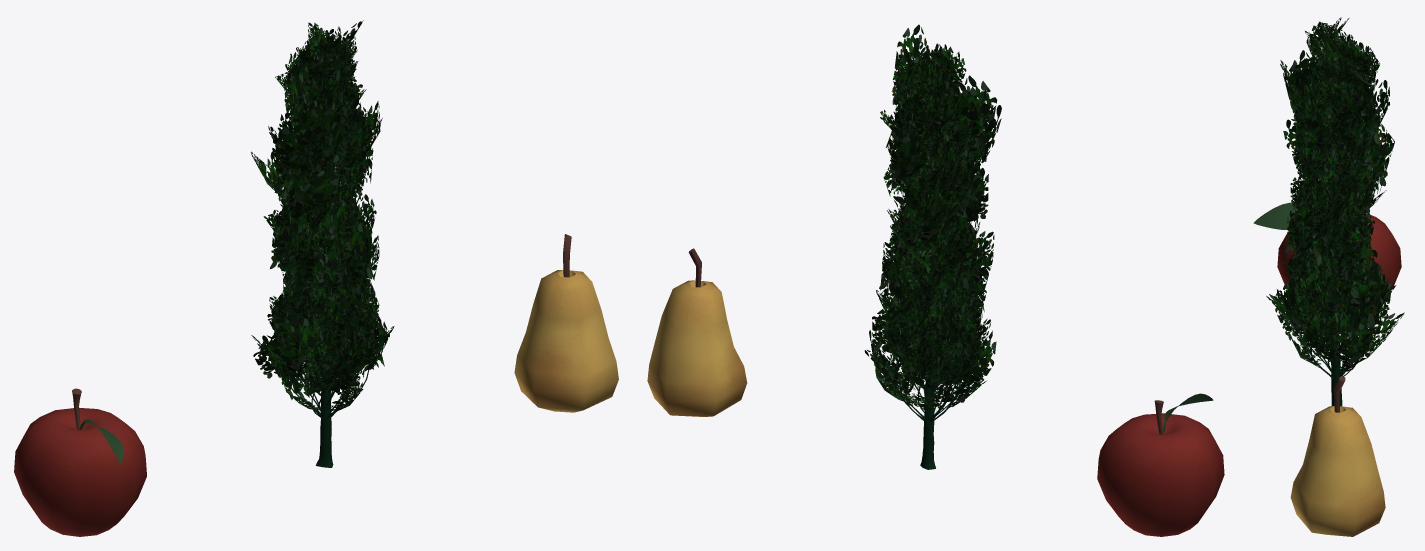
Rendered from Apple.fbx.
3 renders of one model, left to right at view 1: azimuth 30°, elevation 25°; view 2: azimuth 150°, elevation 25°; view 3: azimuth 270°, elevation 25°, orthographic. The views are drawn at different scales.
Visible parts, largest first — view 1: tree6, Apple, Pear, tree6.001; view 2: tree6, Apple, Pear, tree6.001; view 3: tree6, Pear, Apple, tree6.001.
Boxes of the visible parts, x1,y1,x2,y2 form: tree6: (251,20,394,411); Apple: (14,388,146,536); Pear: (514,234,618,412); tree6.001: (287,72,369,467); tree6: (864,24,1001,411); Apple: (1097,393,1224,536); Pear: (647,248,747,416); tree6.001: (888,139,971,469); tree6: (1266,17,1404,371); Pear: (1290,376,1385,536); Apple: (1253,202,1401,324); tree6.001: (1297,60,1372,406).
Bounding box in the file's own units: 142 × 106 × 36.53.
